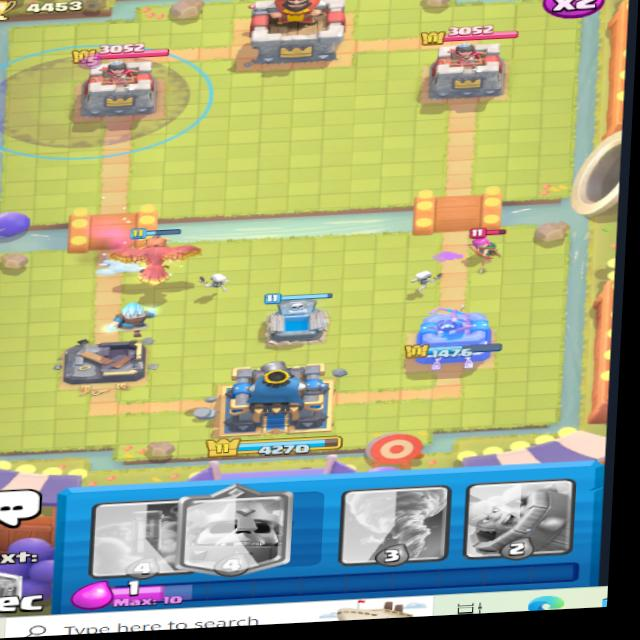Archer: (455, 222, 504, 267)
